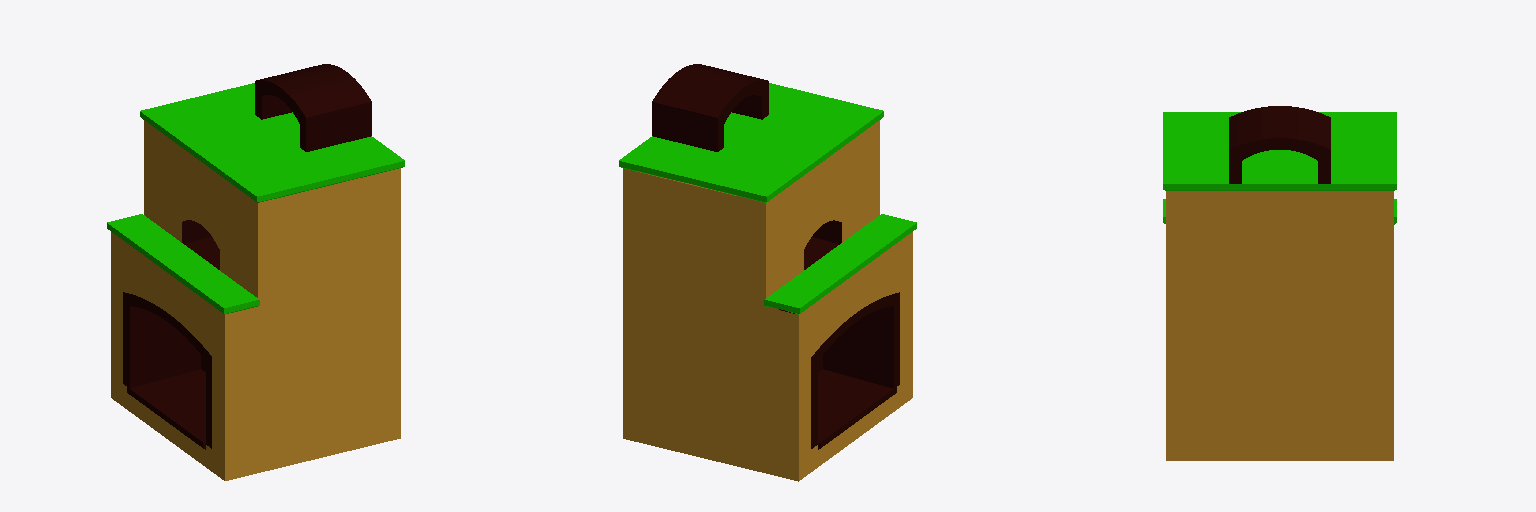
The model's file is oven.obj.
The picture shows the model from 3 angles: view 1: azimuth 30°, elevation 25°; view 2: azimuth 150°, elevation 25°; view 3: azimuth 270°, elevation 25°; orthographic projection.
Parts seen in each view (by area): view 1: Group_1; view 2: Group_1; view 3: Group_1.
Boxes of the visible parts, box(x1,y1,x2,y2) form: Group_1: box(107, 64, 404, 480); Group_1: box(619, 64, 916, 481); Group_1: box(1163, 106, 1396, 460).
Size of the model in its own units: 66 by 113 by 74.